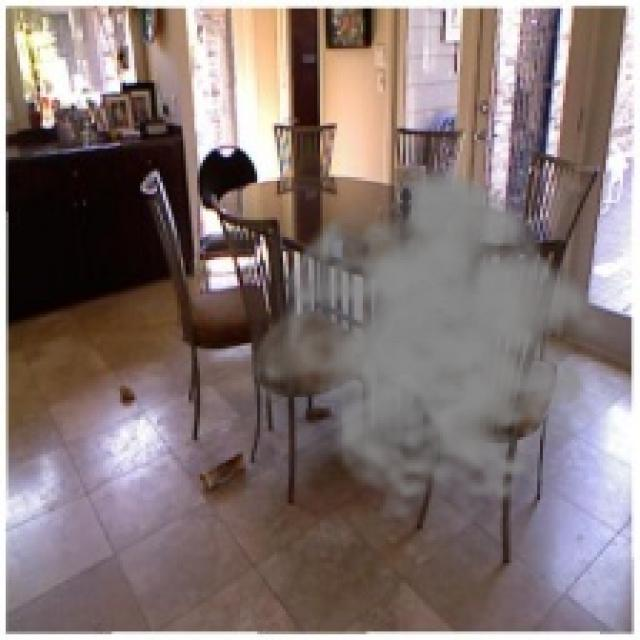smoke: (246, 160, 623, 523)
